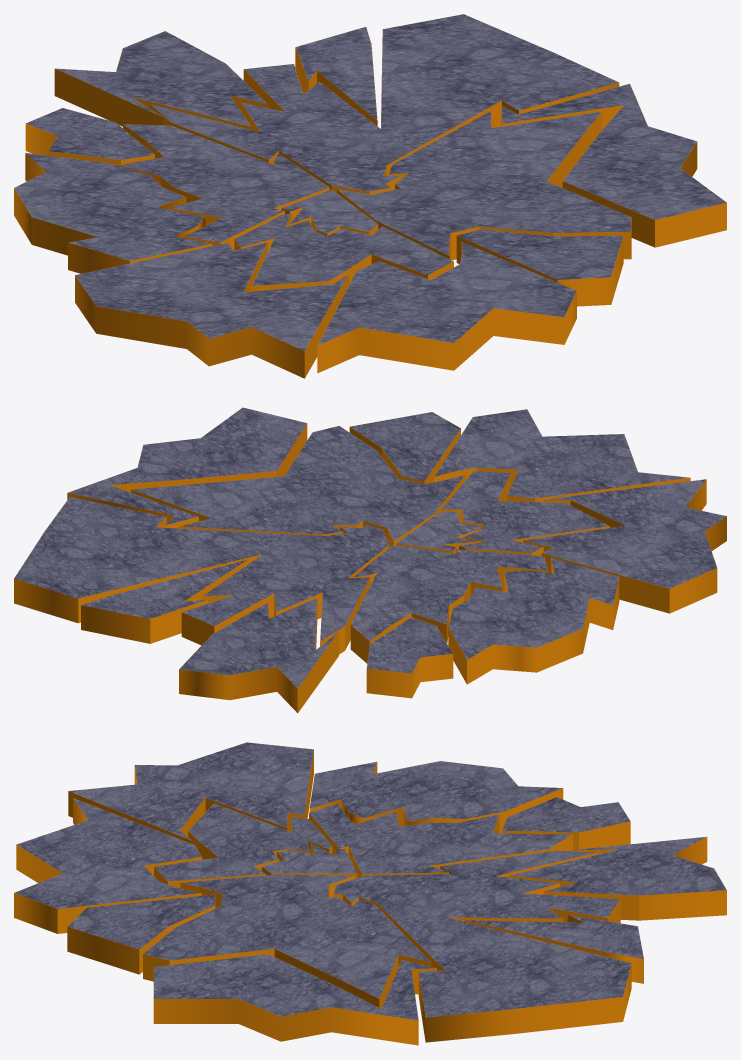
Rendered from Fragmented_Blockage.fbx.
3 renders of one model, top to bottom at view 1: azimuth 30°, elevation 25°; view 2: azimuth 150°, elevation 25°; view 3: azimuth 270°, elevation 25°, orthographic. The views are drawn at different scales.
Visible parts, largest first — view 1: Fragment_2, Subfrag3, polySurface2, polySurface3, fragmentpiece2, subfrag2, Fragment_piece1, Fragment_Piece_5, polySurface1, subfrag1, Fragment_Piece_4, polySurface4; view 2: Fragment_2, Subfrag3, polySurface2, fragmentpiece2, polySurface3, subfrag2, Fragment_Piece_5, Fragment_piece1, polySurface1, Fragment_Piece_4, subfrag1, polySurface4; view 3: Fragment_2, Subfrag3, subfrag2, polySurface3, polySurface2, fragmentpiece2, Fragment_Piece_5, Fragment_piece1, polySurface1, subfrag1, Fragment_Piece_4, polySurface4.
Boxes of the visible parts, <box> form: Fragment_2: <box>25,14,619,194</box>; Subfrag3: <box>337,111,631,260</box>; polySurface2: <box>75,242,349,378</box>; polySurface3: <box>317,242,576,373</box>; fragmentpiece2: <box>14,152,212,273</box>; subfrag2: <box>501,83,726,247</box>; Fragment_piece1: <box>118,124,329,250</box>; Fragment_Piece_5: <box>54,31,268,129</box>; polySurface1: <box>234,214,453,291</box>; subfrag1: <box>456,229,623,306</box>; Fragment_Piece_4: <box>295,27,377,125</box>; polySurface4: <box>282,189,378,235</box>; Fragment_2: <box>14,497,453,698</box>; Subfrag3: <box>131,426,465,547</box>; polySurface2: <box>523,479,726,613</box>; fragmentpiece2: <box>448,557,619,684</box>; polySurface3: <box>434,409,690,501</box>; subfrag2: <box>67,407,307,528</box>; Fragment_Piece_5: <box>179,598,338,713</box>; Fragment_piece1: <box>350,545,548,663</box>; polySurface1: <box>441,470,609,555</box>; Fragment_Piece_4: <box>81,559,248,643</box>; subfrag1: <box>349,412,460,484</box>; polySurface4: <box>396,512,480,553</box>; Fragment_2: <box>333,797,631,1042</box>; Subfrag3: <box>143,874,431,1008</box>; subfrag2: <box>153,954,436,1045</box>; polySurface3: <box>14,798,202,933</box>; polySurface2: <box>68,742,313,843</box>; fragmentpiece2: <box>309,761,563,833</box>; Fragment_Piece_5: <box>509,836,726,920</box>; Fragment_piece1: <box>309,803,572,877</box>; polySurface1: <box>154,803,332,887</box>; subfrag1: <box>67,894,215,974</box>; Fragment_Piece_4: <box>464,915,643,983</box>; polySurface4: <box>261,843,357,878</box>.
Size of the model in its own units: 16.72 by 0.7126 by 18.12.
1 material, 1 textured.
